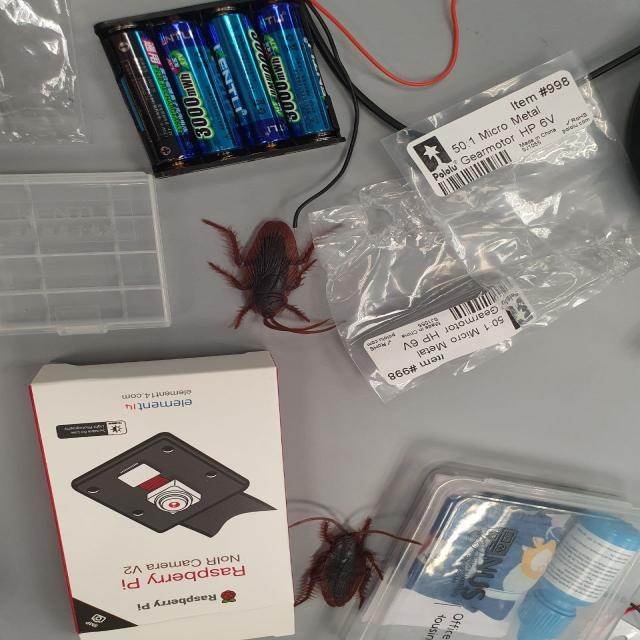Cockroach: (191, 212, 351, 344), (272, 513, 421, 619)
